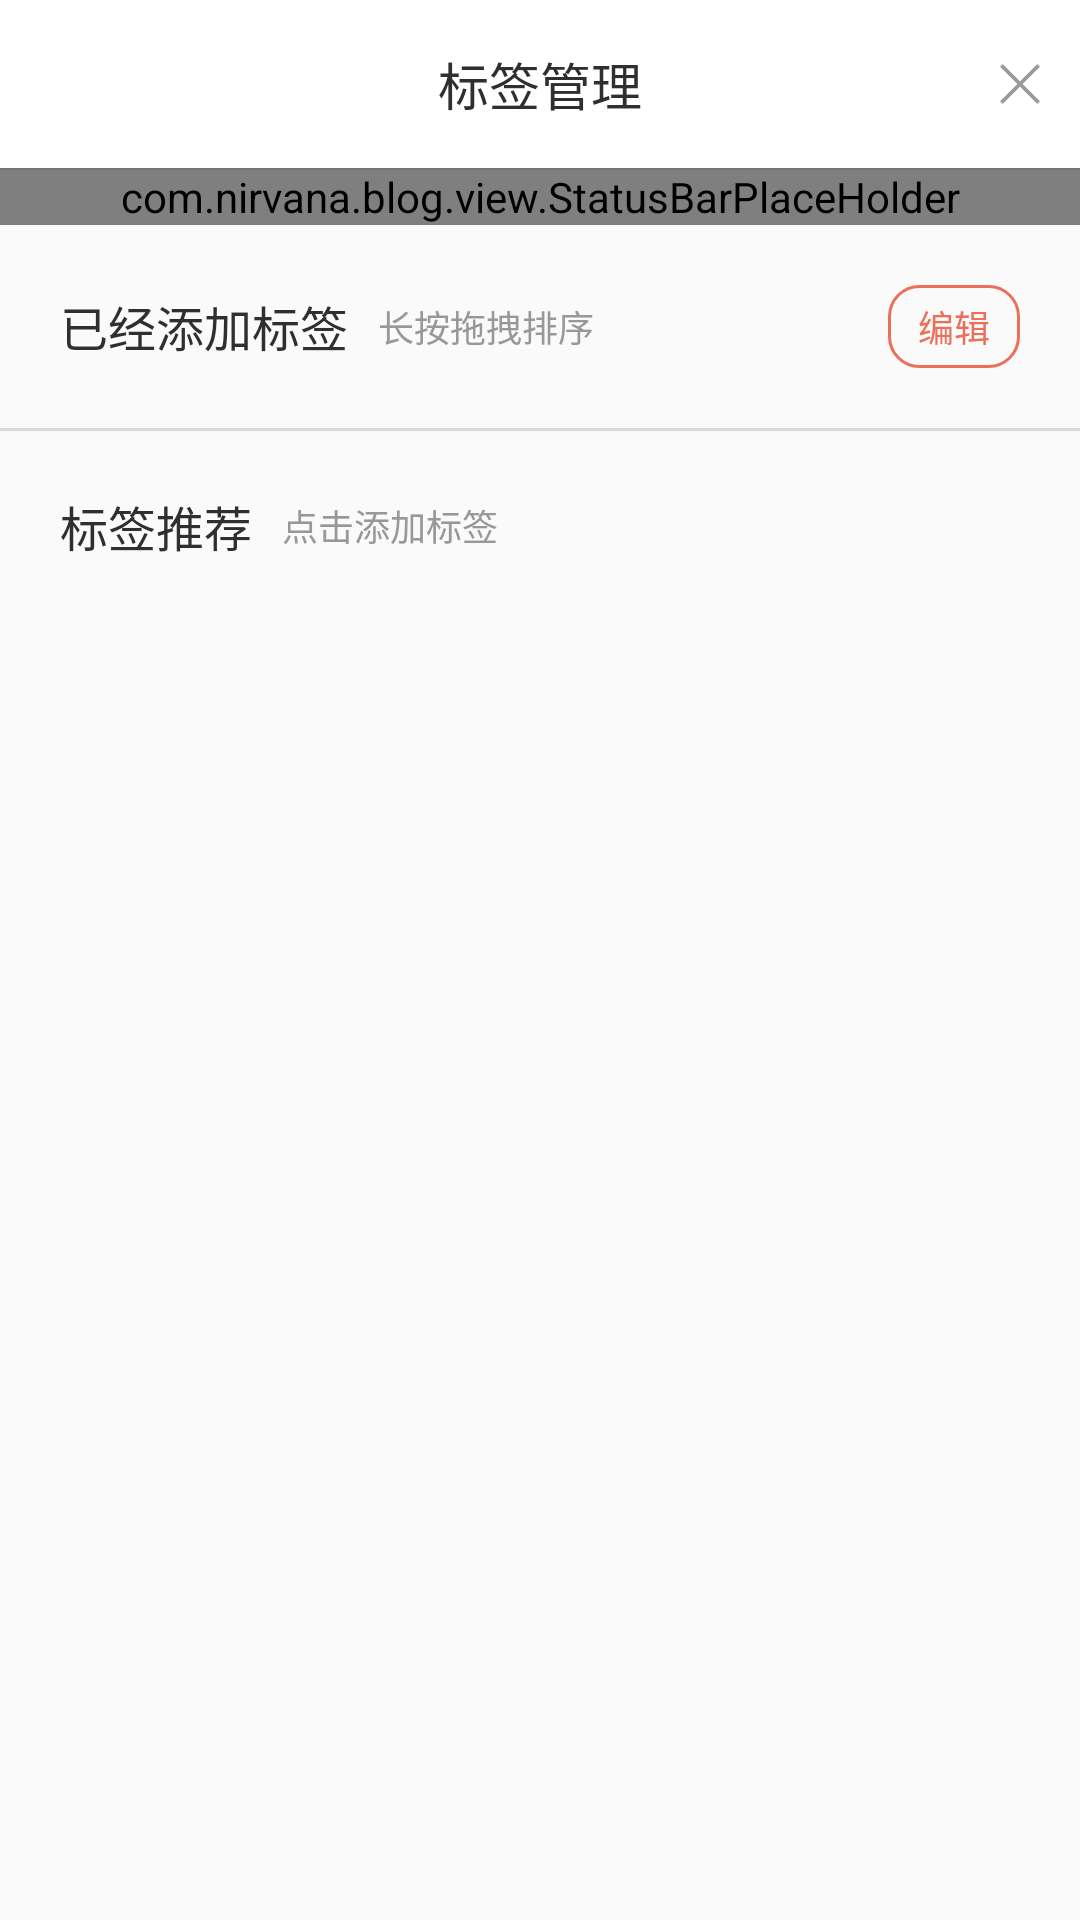

Icons on this 1080 x 1920 Android screen, each with the point to tap as point (x, y):
user cancel: point (1020, 84)
